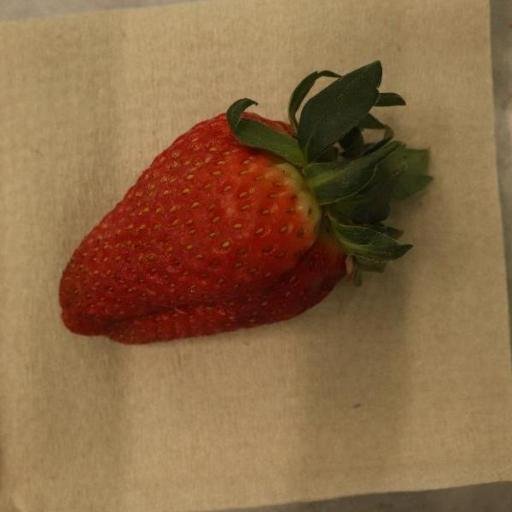Strawberry: (58, 62, 435, 346)
